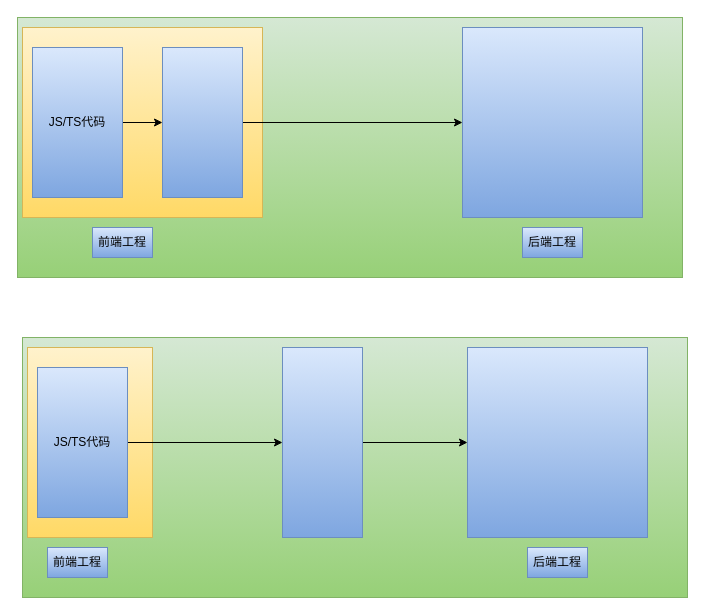
This 705x615 diagram has some shape labels left out. Each missing label, with the centre of its shape:
"Nginx" belongs at [322,442].
"Webpack/ Vite的代理" belongs at [202,122].
